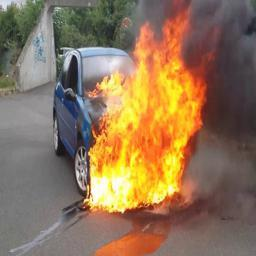fire: (83, 0, 221, 212)
